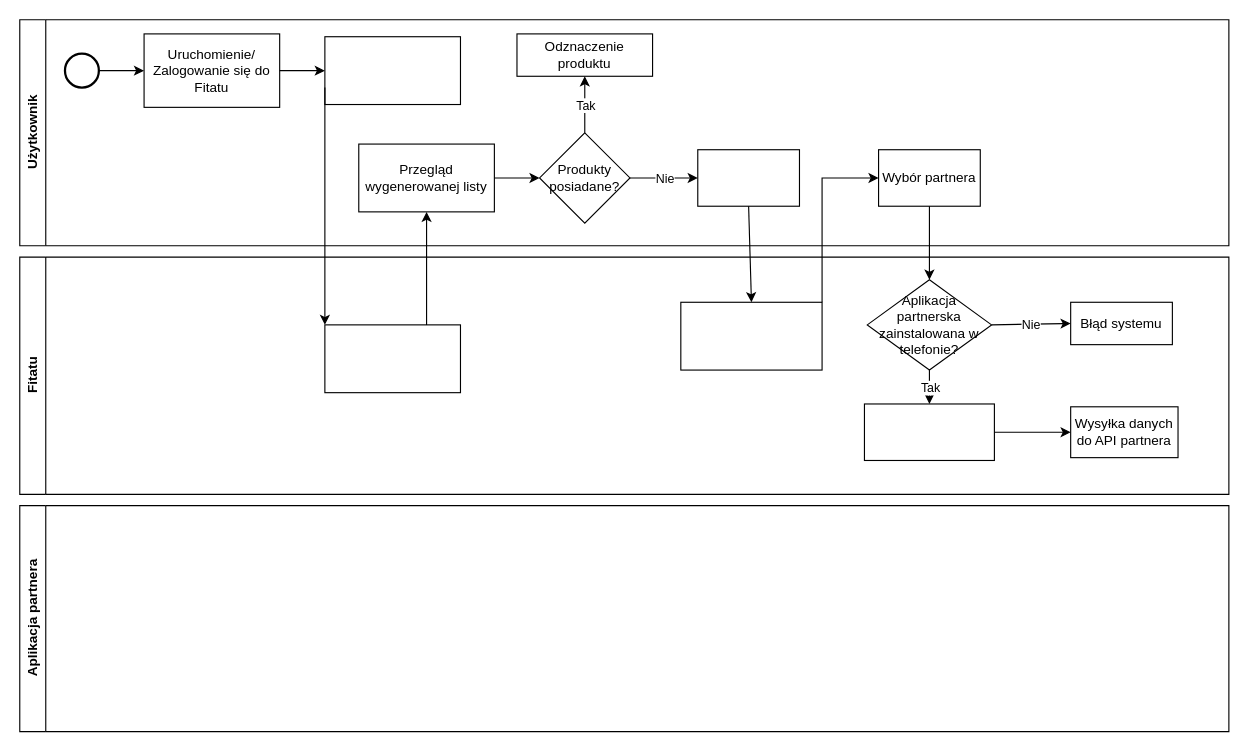
The diagram is 1249 pixels wide and 751 high, and some of its shapes have lost their labels. The centre of each missing label's shape, as x and y in pixels:
Wybór dań na następny dzień: point 392,70
Wygenerowanie listy zakupów: point 392,358
Wygenerowanie ostatecznej listy do eksportu: point 928,431
Wyświetlenie proponowanych aplikacji partnerskich do wyboru: point 751,335
Zatwierdzenie listy: point 748,177
